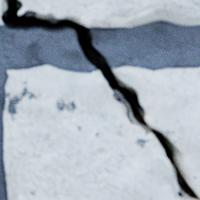broken_brick: (4, 65, 196, 199), (113, 66, 199, 197), (18, 0, 199, 27), (0, 0, 4, 24)
crack: (1, 0, 199, 199)
